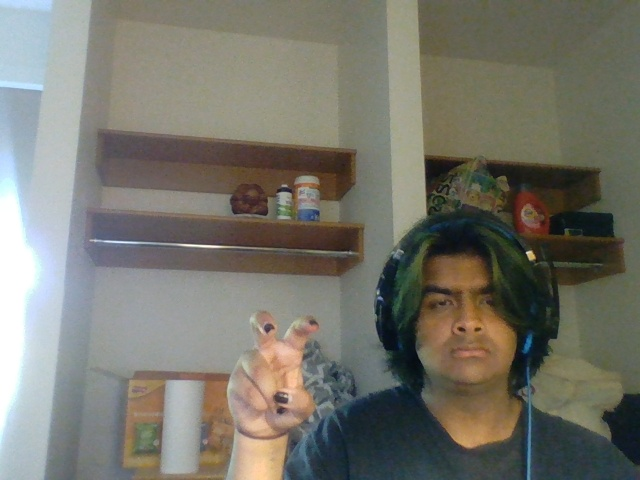z: (220, 303, 321, 442)
